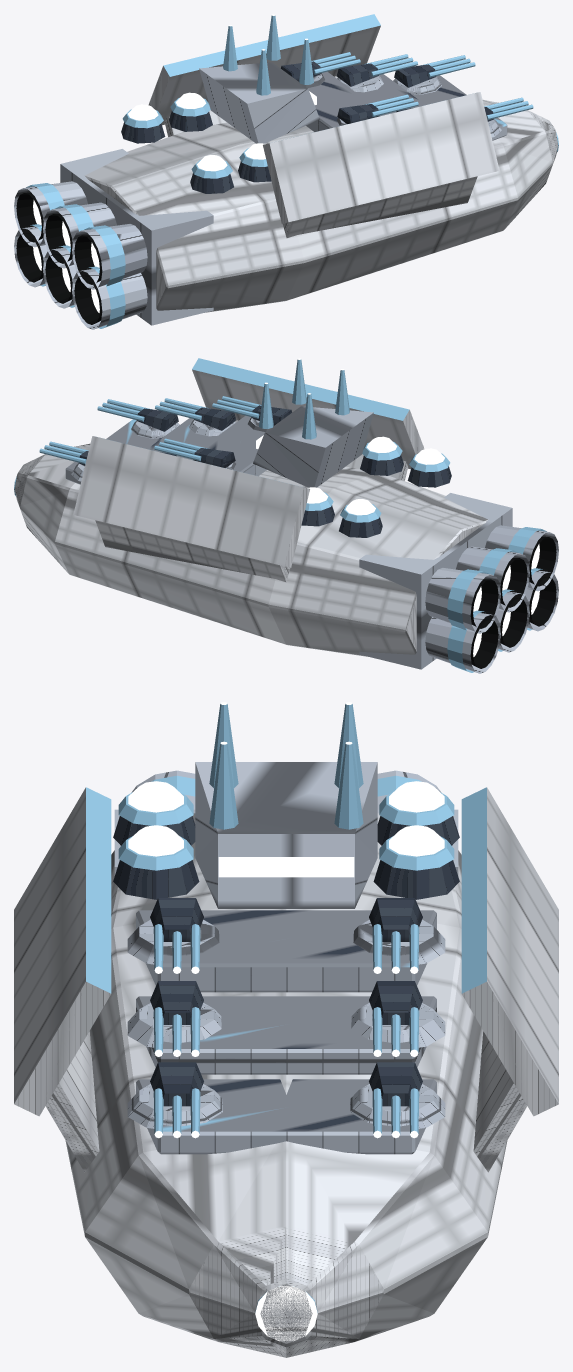
The model's file is dreadnought.glb.
3 renders of one model, top to bottom at view 1: azimuth 30°, elevation 25°; view 2: azimuth 150°, elevation 25°; view 3: azimuth 270°, elevation 25°, orthographic. The views are drawn at different scales.
Visible parts, largest first — view 1: hull_body, engine_block, sensor_tower, weapon_turrets, shield_domes; view 2: hull_body, engine_block, sensor_tower, weapon_turrets, shield_domes; view 3: hull_body, weapon_turrets, sensor_tower, shield_domes, engine_block.
Part boxes in pixels (bbox=[...]): hull_body: bbox=[85, 14, 558, 312]; engine_block: bbox=[14, 149, 213, 329]; sensor_tower: bbox=[199, 14, 319, 143]; weapon_turrets: bbox=[281, 52, 558, 152]; shield_domes: bbox=[121, 92, 271, 193]; hull_body: bbox=[14, 358, 487, 656]; engine_block: bbox=[359, 493, 558, 673]; sensor_tower: bbox=[253, 358, 373, 487]; weapon_turrets: bbox=[14, 396, 291, 496]; shield_domes: bbox=[301, 436, 451, 537]; hull_body: bbox=[14, 787, 558, 1357]; weapon_turrets: bbox=[127, 898, 445, 1341]; sensor_tower: bbox=[195, 702, 377, 908]; shield_domes: bbox=[113, 781, 459, 899]; engine_block: bbox=[114, 770, 458, 875].
Size of the model in its own units: 80 by 38.06 by 40.62.
Materials: 1 (1 with a texture image).
